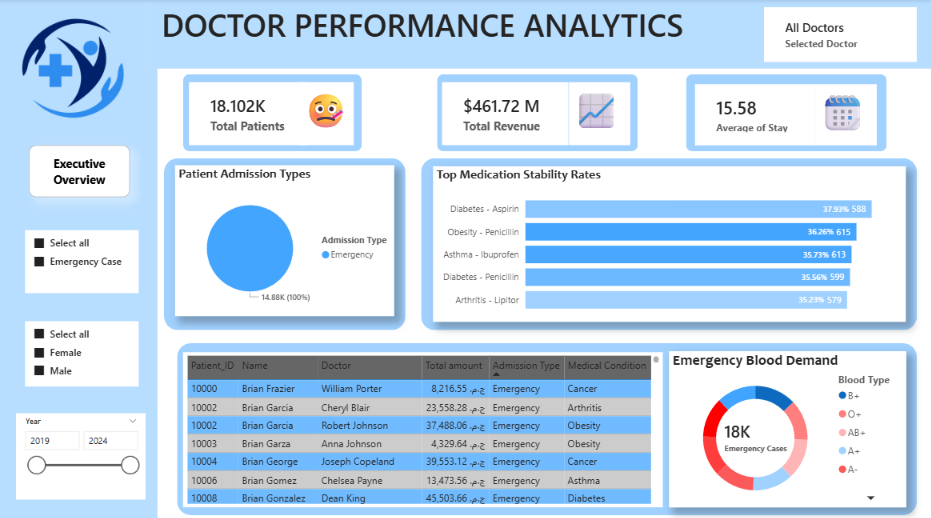

This screenshot's page, from the dashboard's own definition file:
{"tool":"powerbi","page":{"name":"Doctor Profile","canvas":[1280,720],"ordinal":2},"visuals":[{"type":"shape","box":[0,0,216.3,1397.7],"z":0},{"type":"image","box":[22.1,19.8,155.8,150],"z":1000},{"type":"shape","box":[200,0,1790.7,95.3],"z":2000},{"type":"shape","box":[251.2,103.5,245.3,105.8],"z":3000},{"type":"textbox","box":[410.5,114,75.6,86],"z":4000},{"type":"cardVisual","fields":{"Data":["CountNonNull(healthcare_after cleaning using sql.Patient_ID)"]},"box":[259.3,114,160.5,86],"z":5000},{"type":"shape","box":[600,103.5,275.6,105.8],"z":6000},{"type":"cardVisual","fields":{"Data":["healthcare_after cleaning using sql.Total Revenue"]},"box":[607,114,173.3,86],"z":7000},{"type":"textbox","box":[780.2,114,83.7,86],"z":8000},{"type":"shape","box":[941.9,103.5,275.6,105.8],"z":9000},{"type":"slicer","fields":{"Values":["healthcare_after cleaning using sql.Is Emergency"]},"box":[33.7,317.4,155.8,86],"z":10000},{"type":"cardVisual","fields":{"Data":["Avg(healthcare_after cleaning using sql.Length_of_Stay)"]},"box":[953.5,116.3,165.1,83.7],"z":11000},{"type":"textbox","box":[1118.6,116.3,84.9,83.7],"z":12000},{"type":"shape","box":[225.6,218.6,331.4,236],"z":13000},{"type":"shape","box":[242.9,472,1015.4,236],"z":14000},{"type":"shape","box":[577.7,218.2,680.6,236],"z":15000},{"type":"donutChart","title":"Emergency Blood Demand","fields":{"Y":["CountNonNull(healthcare_after cleaning using sql.Patient_ID)"],"Category":["healthcare_after cleaning using sql.Blood Type"]},"box":[918,483,325.2,214.1],"z":16000},{"type":"pieChart","title":"Patient Admission Types","fields":{"Category":["healthcare_after cleaning using sql.Admission Type"],"Y":["Count(healthcare_after cleaning using sql.Patient_ID)"]},"box":[240.7,227.9,301.2,207],"z":17000},{"type":"tableEx","fields":{"Values":["healthcare_after cleaning using sql.Patient_ID","healthcare_after cleaning using sql.Name","healthcare_after cleaning using sql.Doctor","Sum(healthcare_after cleaning using sql.Billing Amount)","healthcare_after cleaning using sql.Admission Type","healthcare_after cleaning using sql.Medical Condition"]},"box":[251.1,484.4,658.7,212.7],"z":18000},{"type":"cardVisual","fields":{"Data":["healthcare_after cleaning using sql.Emergency Cases"]},"box":[964.7,521.4,144.1,156.4],"z":19000},{"type":"textbox","box":[216.3,0,879.1,67.4],"z":20000},{"type":"cardVisual","fields":{"Data":["healthcare_after cleaning using sql.Selected Doctor"]},"box":[1048.8,10.5,209.3,75.6],"z":21000},{"type":"actionButton","box":[39.5,200,138.4,70.9],"z":22000},{"type":"slicer","fields":{"Values":["healthcare_after cleaning using sql.Gender"]},"box":[33.7,441.9,155.8,89.5],"z":23000},{"type":"slicer","fields":{"Values":["healthcare_after cleaning using sql.Admission.Variation.Date Hierarchy.Year"]},"box":[22.1,568.6,177.9,117.4],"z":24000},{"type":"clusteredBarChart","title":"Top Medication Stability Rates","fields":{"Category":["healthcare_after cleaning using sql.Condition - Medication"],"Y":["healthcare_after cleaning using sql.Normal Result Rate (%)"]},"box":[594.2,229.2,649.1,214.1],"z":25000}]}

Visuals, with their boxes in screenshot pixels (x1, y1, x2, y2), scaled from the page's 1280x720 canvas onto the 931x518 screenshot:
shape: crop(0, 0, 157, 517)
image: crop(16, 14, 129, 122)
shape: crop(145, 0, 930, 69)
shape: crop(183, 74, 361, 151)
textbox: crop(299, 82, 354, 144)
cardVisual - CountNonNull(healthcare_after cleaning using sql.Patient_ID): crop(189, 82, 305, 144)
shape: crop(436, 74, 637, 151)
cardVisual - healthcare_after cleaning using sql.Total Revenue: crop(441, 82, 568, 144)
textbox: crop(567, 82, 628, 144)
shape: crop(685, 74, 886, 151)
slicer - healthcare_after cleaning using sql.Is Emergency: crop(25, 228, 138, 290)
cardVisual - Avg(healthcare_after cleaning using sql.Length_of_Stay): crop(694, 84, 814, 144)
textbox: crop(814, 84, 875, 144)
shape: crop(164, 157, 405, 327)
shape: crop(177, 340, 915, 509)
shape: crop(420, 157, 915, 327)
"Emergency Blood Demand" donutChart: crop(668, 347, 904, 502)
"Patient Admission Types" pieChart: crop(175, 164, 394, 313)
tableEx - healthcare_after cleaning using sql.Patient_ID x healthcare_after cleaning using sql.Name: crop(183, 348, 662, 502)
cardVisual - healthcare_after cleaning using sql.Emergency Cases: crop(702, 375, 806, 488)
textbox: crop(157, 0, 797, 48)
cardVisual - healthcare_after cleaning using sql.Selected Doctor: crop(763, 8, 915, 62)
actionButton: crop(29, 144, 129, 195)
slicer - healthcare_after cleaning using sql.Gender: crop(25, 318, 138, 382)
slicer - healthcare_after cleaning using sql.Admission.Variation.Date Hierarchy.Year: crop(16, 409, 145, 494)
"Top Medication Stability Rates" clusteredBarChart: crop(432, 165, 904, 319)
